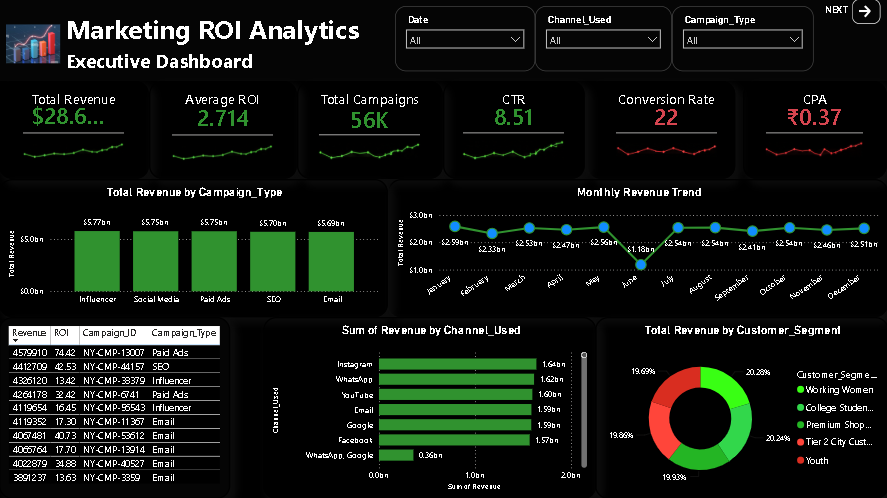

Layout of this report page (visuals, bound fields, positions):
{"tool":"powerbi","page":{"name":"Executive Overview","canvas":[1280,720],"ordinal":0},"visuals":[{"type":"textbox","box":[0,118.1,216,141.1],"z":0},{"type":"textbox","box":[0,0,1278.7,118.1],"z":1000},{"type":"cardVisual","fields":{"Data":["marketing_campaign_cleaned.Total Revenue"]},"box":[17.3,122.4,180,139],"z":2000},{"type":"textbox","box":[216,118.1,213.1,141.1],"z":3000},{"type":"textbox","box":[429.1,118.1,210.2,141.1],"z":4000},{"type":"textbox","box":[848.2,118.1,211.7,141.1],"z":5000},{"type":"textbox","box":[1071.4,118.1,207.4,141.1],"z":6000},{"type":"textbox","box":[639.4,118.1,204.5,141.1],"z":7000},{"type":"cardVisual","fields":{"Data":["marketing_campaign_cleaned.Average ROI"]},"box":[231.8,125.3,180,139.7],"z":8000},{"type":"cardVisual","fields":{"Data":["marketing_campaign_cleaned.Total Campaigns"]},"box":[443.5,131,180,128.2],"z":9000},{"type":"cardVisual","fields":{"Data":["marketing_campaign_cleaned.CTR"]},"box":[650.9,125.3,180,133.9],"z":10000},{"type":"cardVisual","fields":{"Data":["marketing_campaign_cleaned.Conversion Rate"]},"box":[871.2,125.3,180,133.9],"z":11000},{"type":"cardVisual","fields":{"Data":["marketing_campaign_cleaned.CPA"]},"box":[1087.2,125.3,174.2,133.9],"z":12000},{"type":"lineChart","title":"Monthly Revenue Trend","fields":{"Category":["marketing_campaign_cleaned.Date.Variation.Date Hierarchy.Month"],"Y":["marketing_campaign_cleaned.Total Revenue"]},"box":[560.2,259.2,720,198.7],"z":13000},{"type":"clusteredColumnChart","title":"Total Revenue by Campaign_Type","fields":{"Category":["marketing_campaign_cleaned.Campaign_Type"],"Y":["marketing_campaign_cleaned.Total Revenue"]},"box":[0,259.2,560.2,198.7],"z":14000},{"type":"clusteredBarChart","fields":{"Category":["marketing_campaign_cleaned.Channel_Used"],"Y":["Sum(marketing_campaign_cleaned.Revenue)"]},"box":[380.2,457.9,479.5,262.1],"z":15000},{"type":"donutChart","fields":{"Category":["marketing_campaign_cleaned.Customer_Segment"],"Y":["marketing_campaign_cleaned.Total Revenue"]},"box":[858.2,457.9,423.4,262.1],"z":16000},{"type":"tableEx","fields":{"Values":["marketing_campaign_cleaned.Revenue","marketing_campaign_cleaned.ROI","marketing_campaign_cleaned.Campaign_ID","marketing_campaign_cleaned.Campaign_Type"]},"box":[0,457.9,332.6,262.1],"z":17000},{"type":"slicer","fields":{"Values":["marketing_campaign_cleaned.Date"]},"box":[570.2,10.1,201.6,93.6],"z":18000},{"type":"slicer","fields":{"Values":["marketing_campaign_cleaned.Channel_Used"]},"box":[771.8,10.1,197.3,93.6],"z":19000},{"type":"slicer","fields":{"Values":["marketing_campaign_cleaned.Campaign_Type"]},"box":[969.1,10.1,204.5,93.6],"z":20000},{"type":"actionButton","box":[1228.3,0,40.7,35.7],"z":21000},{"type":"image","box":[10.3,21.7,78.3,86.7],"z":23000},{"type":"textbox","box":[1183.7,1.4,44.6,30.2],"z":33001}]}

Visuals, with their boxes in screenshot pixels (x1, y1, x2, y2), scaled from the page's 1280x720 canvas onto the 887x498 screenshot:
textbox: box(0, 82, 150, 179)
textbox: box(0, 0, 886, 82)
cardVisual - marketing_campaign_cleaned.Total Revenue: box(12, 85, 137, 181)
textbox: box(150, 82, 297, 179)
textbox: box(297, 82, 443, 179)
textbox: box(588, 82, 734, 179)
textbox: box(742, 82, 886, 179)
textbox: box(443, 82, 585, 179)
cardVisual - marketing_campaign_cleaned.Average ROI: box(161, 87, 285, 183)
cardVisual - marketing_campaign_cleaned.Total Campaigns: box(307, 91, 432, 179)
cardVisual - marketing_campaign_cleaned.CTR: box(451, 87, 576, 179)
cardVisual - marketing_campaign_cleaned.Conversion Rate: box(604, 87, 728, 179)
cardVisual - marketing_campaign_cleaned.CPA: box(753, 87, 874, 179)
"Monthly Revenue Trend" lineChart: box(388, 179, 886, 317)
"Total Revenue by Campaign_Type" clusteredColumnChart: box(0, 179, 388, 317)
clusteredBarChart - marketing_campaign_cleaned.Channel_Used x Sum(marketing_campaign_cleaned.Revenue): box(263, 317, 596, 497)
donutChart - marketing_campaign_cleaned.Customer_Segment x marketing_campaign_cleaned.Total Revenue: box(595, 317, 886, 497)
tableEx - marketing_campaign_cleaned.Revenue x marketing_campaign_cleaned.ROI: box(0, 317, 230, 497)
slicer - marketing_campaign_cleaned.Date: box(395, 7, 535, 72)
slicer - marketing_campaign_cleaned.Channel_Used: box(535, 7, 672, 72)
slicer - marketing_campaign_cleaned.Campaign_Type: box(672, 7, 813, 72)
actionButton: box(851, 0, 879, 25)
image: box(7, 15, 61, 75)
textbox: box(820, 1, 851, 22)
